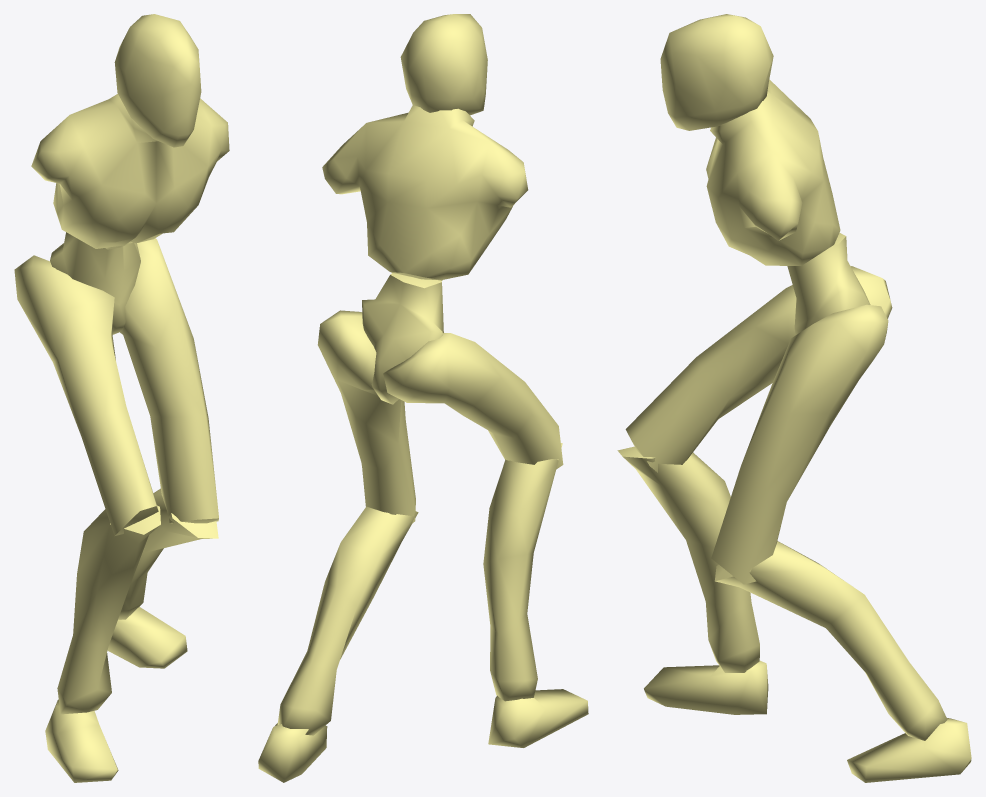
Rendered from filth68.obj.
The picture shows the model from 3 angles, left to right: view 1: azimuth 30°, elevation 25°; view 2: azimuth 150°, elevation 25°; view 3: azimuth 270°, elevation 25°; orthographic projection. The views are drawn at different scales.
Parts seen in each view (by area): view 1: Melee_Husk; view 2: Melee_Husk; view 3: Melee_Husk.
Boxes of the visible parts, x1,y1,x2,y2 form: Melee_Husk: (14, 14, 229, 782); Melee_Husk: (258, 14, 588, 782); Melee_Husk: (617, 14, 971, 782).
Size of the model in its own units: 22.17 by 71.05 by 31.19.
